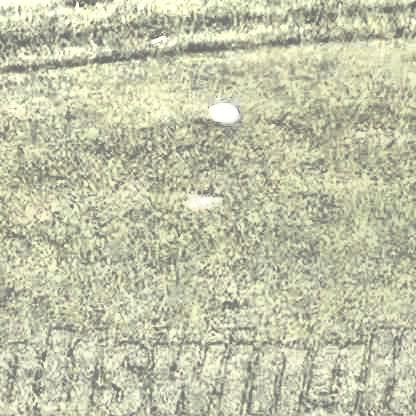golfball: (207, 99, 237, 125)
